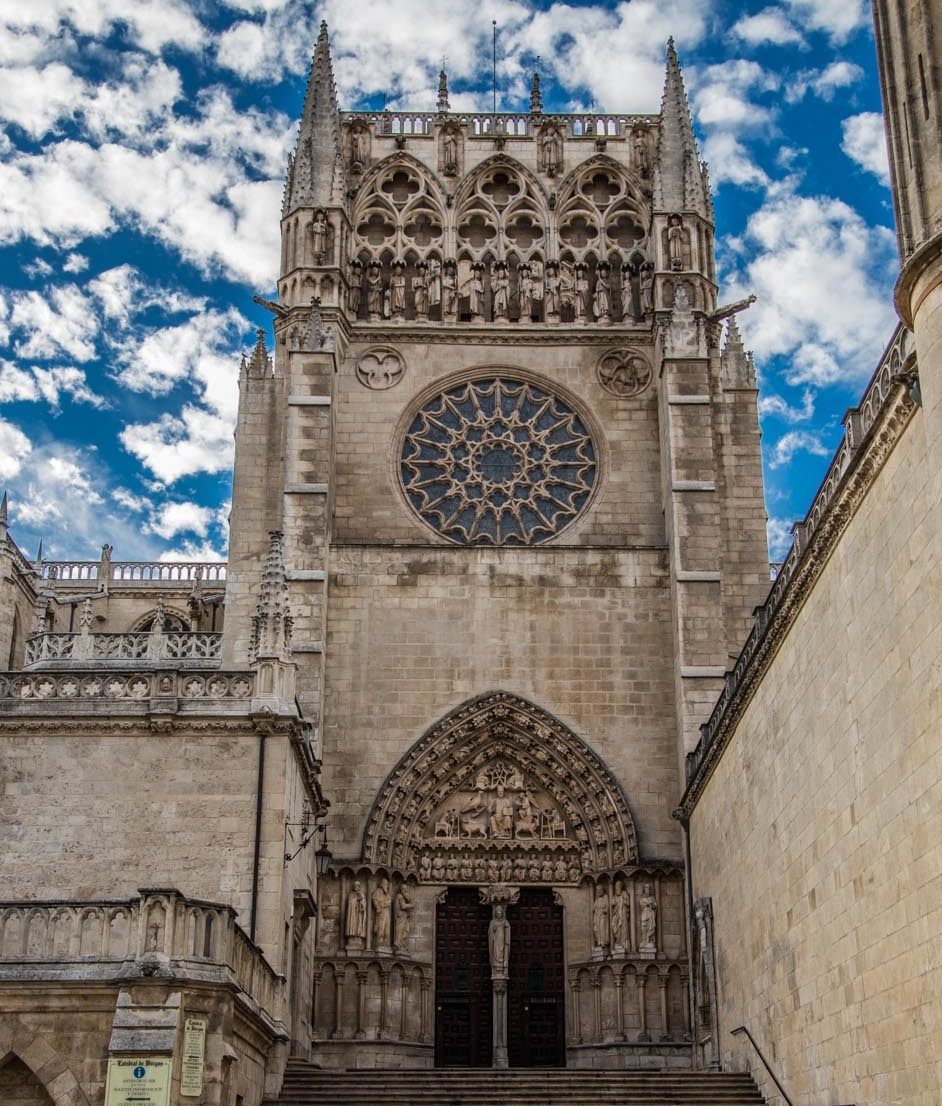arco-apuntado: (357, 689, 640, 859), (551, 151, 652, 221), (449, 149, 550, 219), (345, 149, 446, 219)
pinaculo-gotico: (285, 16, 344, 187), (651, 32, 707, 194), (243, 524, 300, 672)
